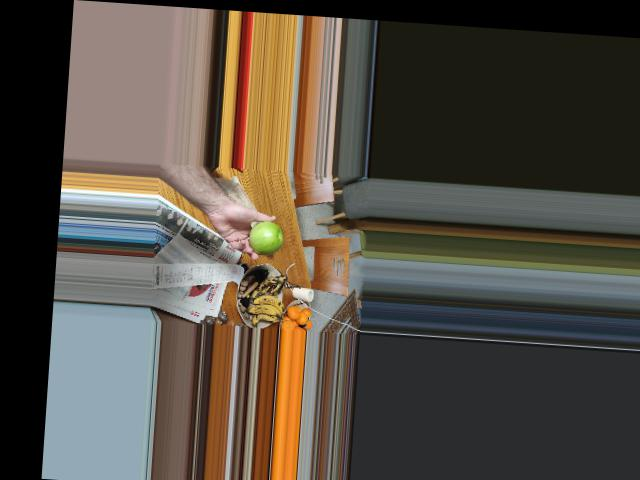apple: (245, 220, 285, 256)
